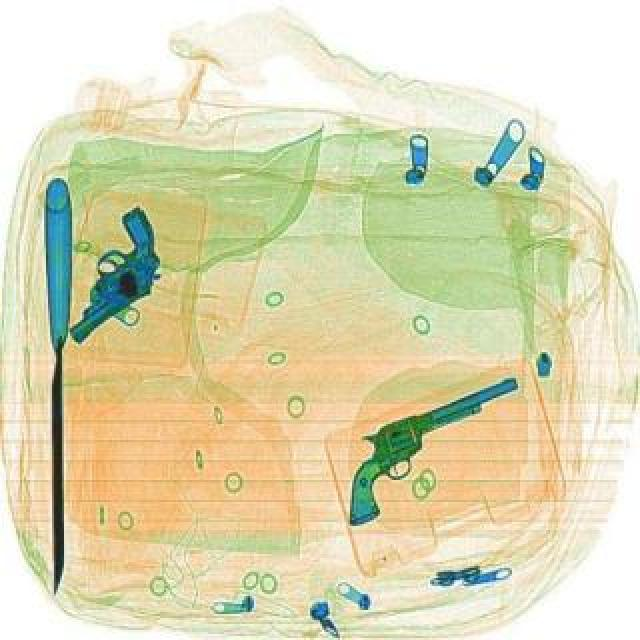gun: (314, 372, 550, 524), (24, 202, 190, 342)
knife: (42, 174, 74, 590)
